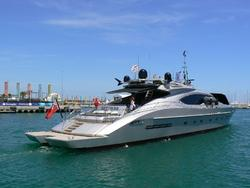yacht: (22, 51, 235, 149)
